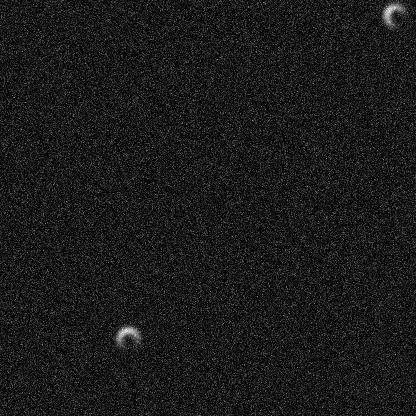Janus: (29, 70, 59, 100), (78, 84, 108, 114), (329, 63, 359, 93), (101, 195, 131, 225)
